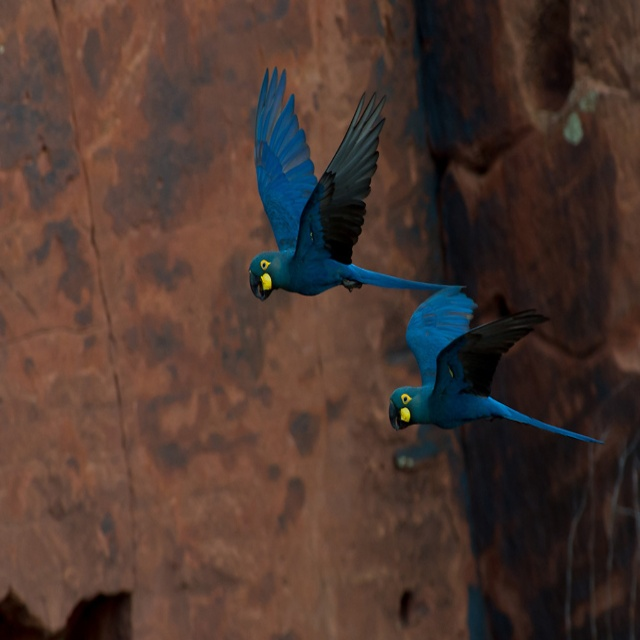Parrot: (250, 63, 453, 302), (388, 285, 602, 448)
